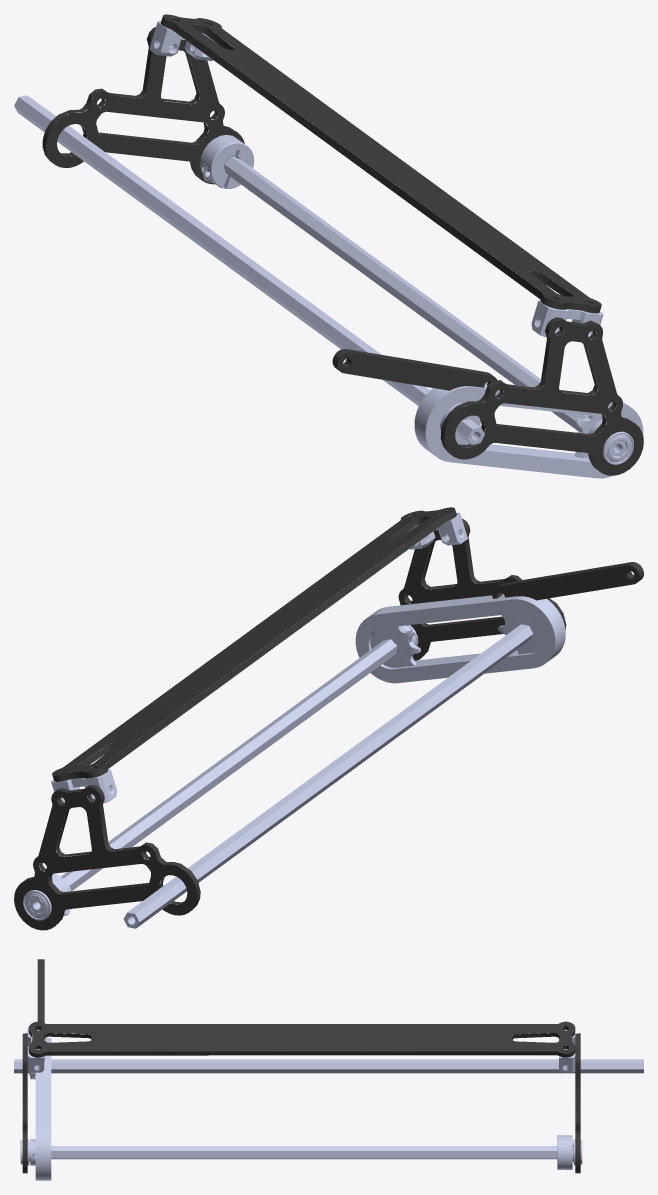
3 views of the same model, one above another, from view 1: azimuth 30°, elevation 25°; view 2: azimuth 150°, elevation 25°; view 3: azimuth 270°, elevation 25° (orthographic). The views are drawn at different scales.
Visible parts, largest first — view 1: arm; view 2: arm; view 3: arm.
Boxes of the visible parts, bbox=[...] form: arm: bbox=[14, 14, 643, 478]; arm: bbox=[14, 507, 643, 930]; arm: bbox=[14, 959, 643, 1180].
Bounding box in the file's own units: 0.1405 × 0.0861 × 0.363.
